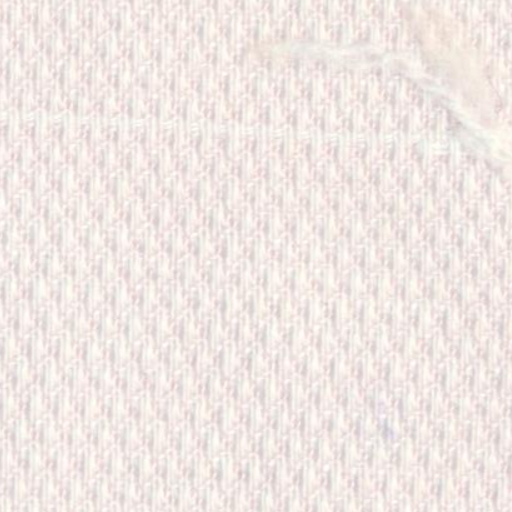DuanSha: (244, 14, 500, 146)
